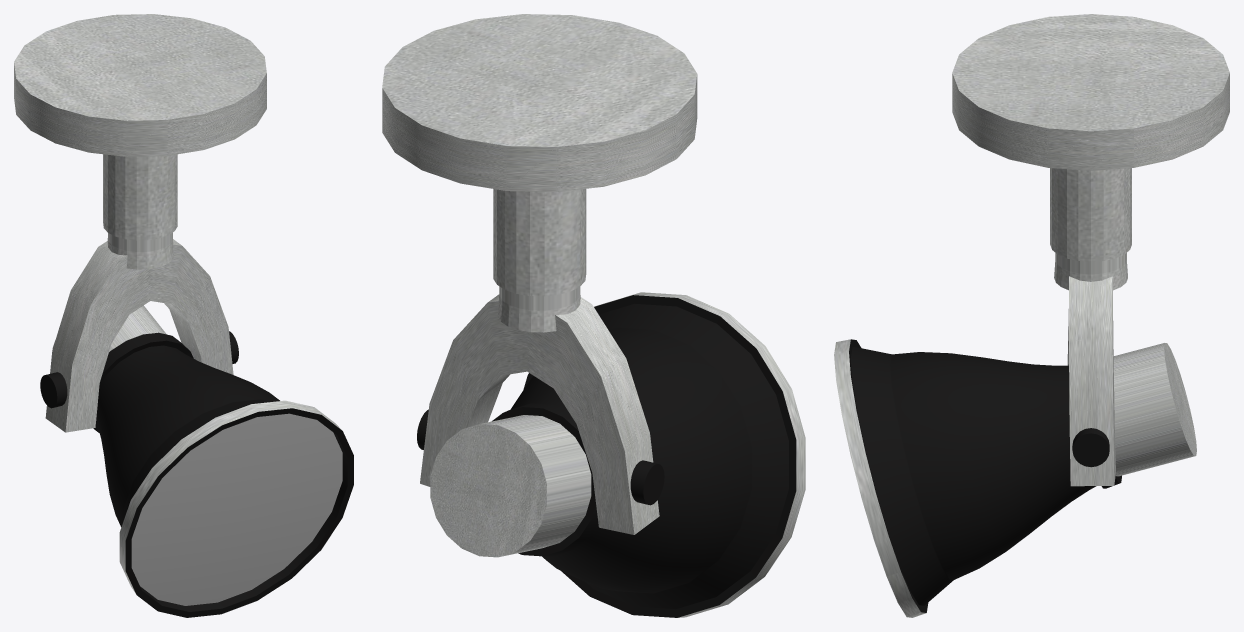
File: spotlight3.fbx
The picture shows the model from 3 angles, left to right: view 1: azimuth 30°, elevation 25°; view 2: azimuth 150°, elevation 25°; view 3: azimuth 270°, elevation 25°; orthographic projection. The views are drawn at different scales.
Parts seen in each view (by area): view 1: pCylinder3, pCylinder1, pCube1, pCylinder2, pCylinder4; view 2: pCylinder3, pCylinder1, pCube1, pCylinder2, pCylinder4; view 3: pCylinder3, pCylinder1, pCylinder2, pCube1, pCylinder5.
Boxes of the visible parts, box(x1,y1,x2,y2) form: pCylinder3: box(52, 305, 353, 617); pCylinder1: box(14, 14, 266, 156); pCube1: box(45, 239, 233, 432); pCylinder2: box(103, 154, 177, 269); pCylinder4: box(40, 372, 67, 408); pCylinder3: box(430, 292, 805, 617); pCylinder1: box(382, 14, 697, 192); pCube1: box(420, 294, 659, 534); pCylinder2: box(493, 189, 586, 332); pCylinder4: box(630, 460, 664, 505); pCylinder3: box(834, 339, 1196, 617); pCylinder1: box(952, 14, 1229, 170); pCylinder2: box(1050, 168, 1131, 290); pCube1: box(1067, 276, 1115, 486); pCylinder5: box(1072, 428, 1109, 467).
Bounding box in the file's own units: 23.87 × 48.74 × 32.83.
